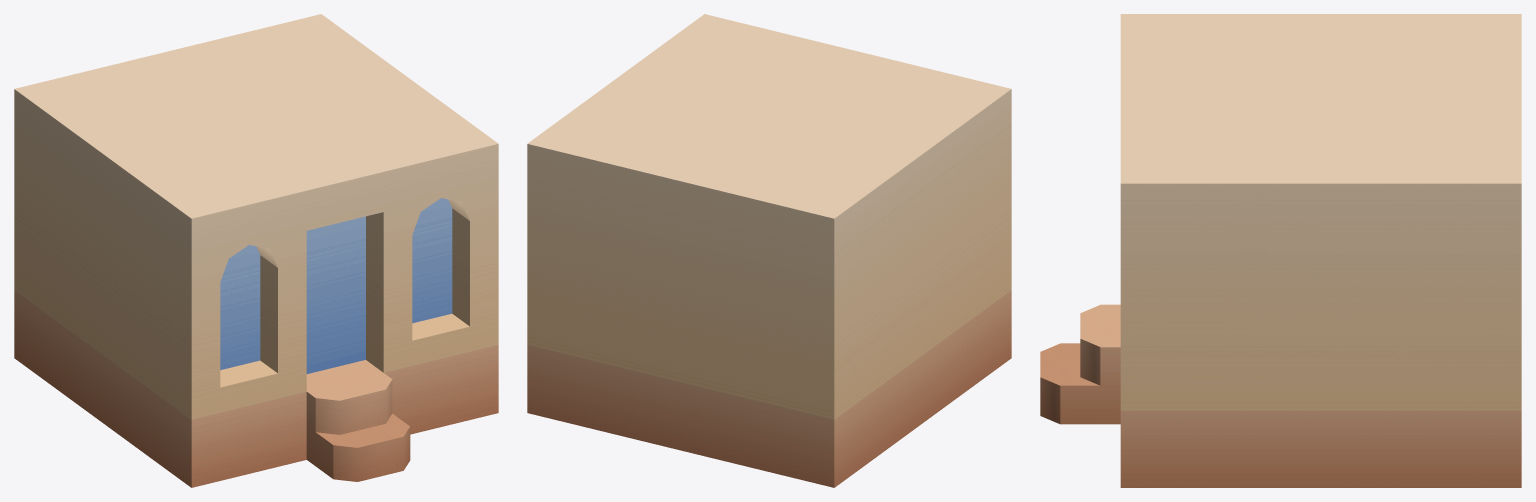
The model's file is building_steps_narrow_windows_round.glb.
3 renders of one model, left to right at view 1: azimuth 30°, elevation 25°; view 2: azimuth 150°, elevation 25°; view 3: azimuth 270°, elevation 25°, orthographic. The views are drawn at different scales.
Parts seen in each view (by area): view 1: building-steps-narrow-windows-round; view 2: building-steps-narrow-windows-round; view 3: building-steps-narrow-windows-round.
Part boxes in pixels (x1,y1,x2,y2): building-steps-narrow-windows-round: [14, 14, 498, 487]; building-steps-narrow-windows-round: [527, 14, 1011, 487]; building-steps-narrow-windows-round: [1040, 14, 1521, 487].
Bounding box in the file's own units: 1 × 0.8375 × 1.2.
1 material, 1 textured.
